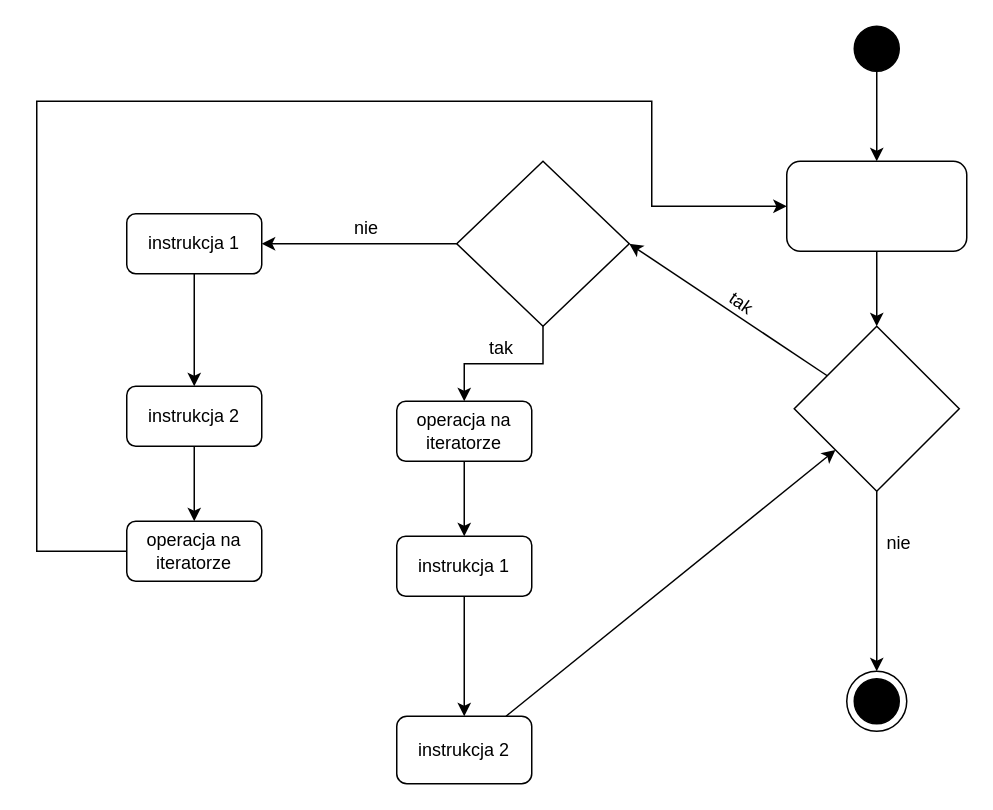
Some shapes in this 993 by 810 pixel diagram are drawn without their labels. The shapes that lost their labels are listed below. From the top down, each one's box as (x1, y1, x2, y2) in pixels, then its label:
(785, 160, 967, 251): inicjowanie iteratora
(455, 160, 629, 326): pre inkrementacja
(793, 325, 959, 491): czy prawidłowy warunek
